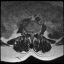CCS_severe_stenosis: (31, 31, 33, 37)
LFS_normal: (35, 30, 37, 35)
LLS_stenosis: (33, 31, 35, 36)
RFS_normal: (27, 31, 29, 36)
RLS_stenosis: (29, 31, 31, 36)
